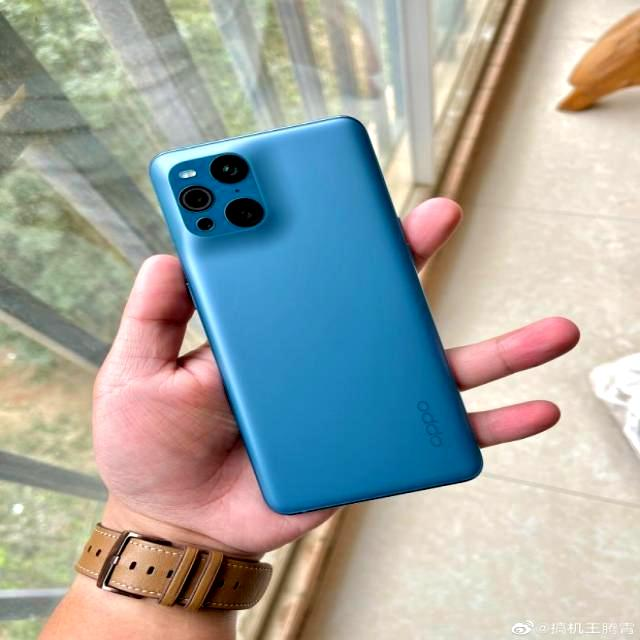lens_back: (221, 189, 266, 230), (176, 180, 218, 220), (209, 155, 255, 184)
phone: (147, 110, 488, 520)
